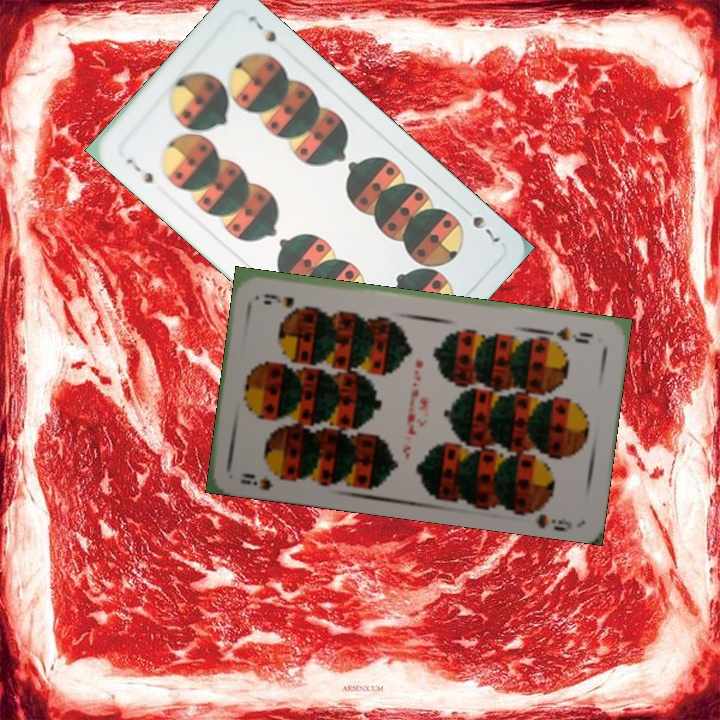S7: (121, 154, 157, 187), (468, 212, 503, 245)
S9: (237, 467, 292, 492), (544, 322, 597, 346)
